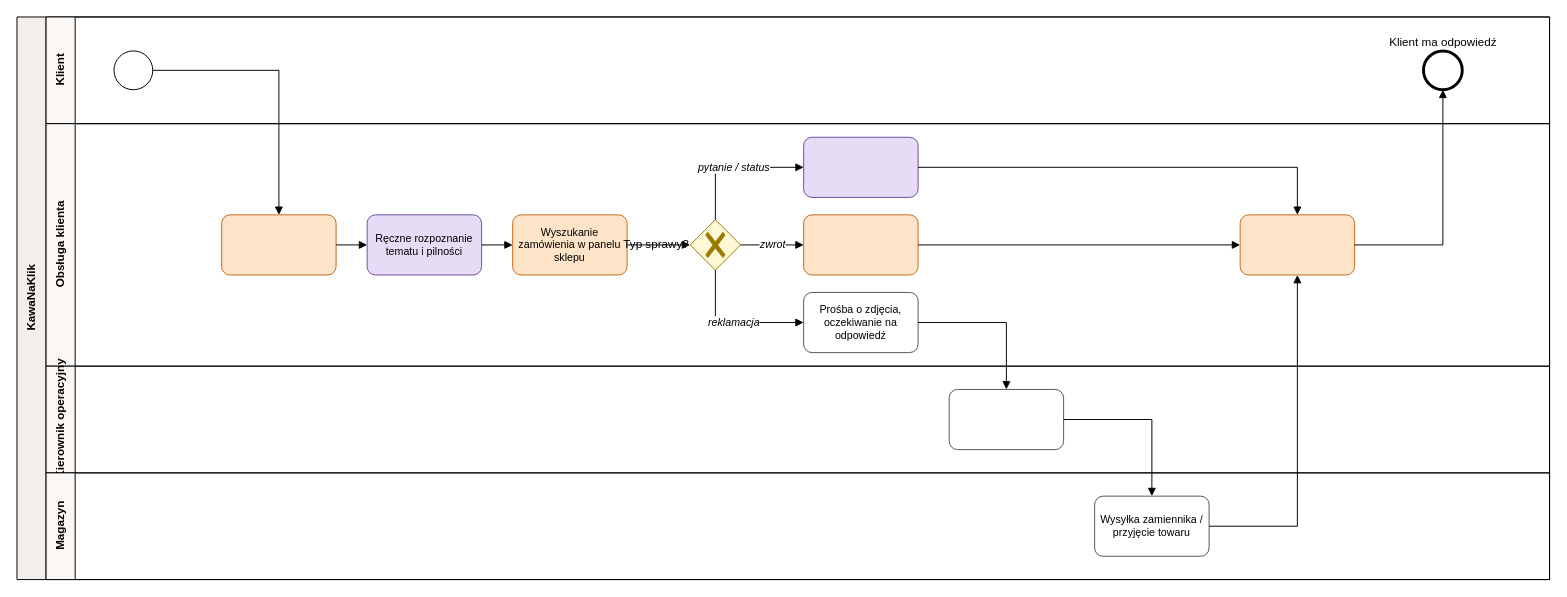
Some shapes in this 1567 by 597 pixel diagram are drawn without their labels. The shapes that lost their labels are listed below. From the top down, each one's centre as x and y in pixels, then its label:
point (133, 70): E-mail od klienta
point (860, 166): Odpowiedź pisana od zera
point (278, 244): Przegląd skrzynki (2 razy dziennie)
point (860, 244): Sprawdzenie terminu 14 dni, instrukcja odesłania
point (1297, 244): Odpowiedź i ręczny wpis do arkusza zgłoszeń
point (1006, 419): Decyzja: uznać czy odrzucić reklamację
